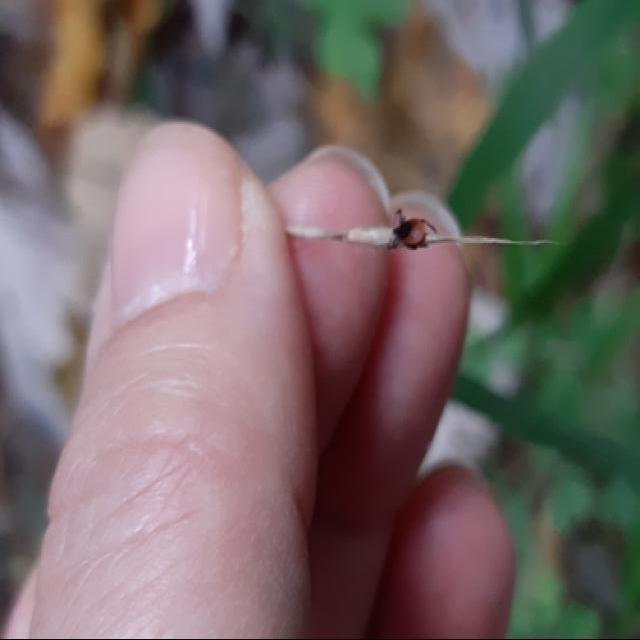Ixodes Ricinus-F: (392, 210, 434, 251)
